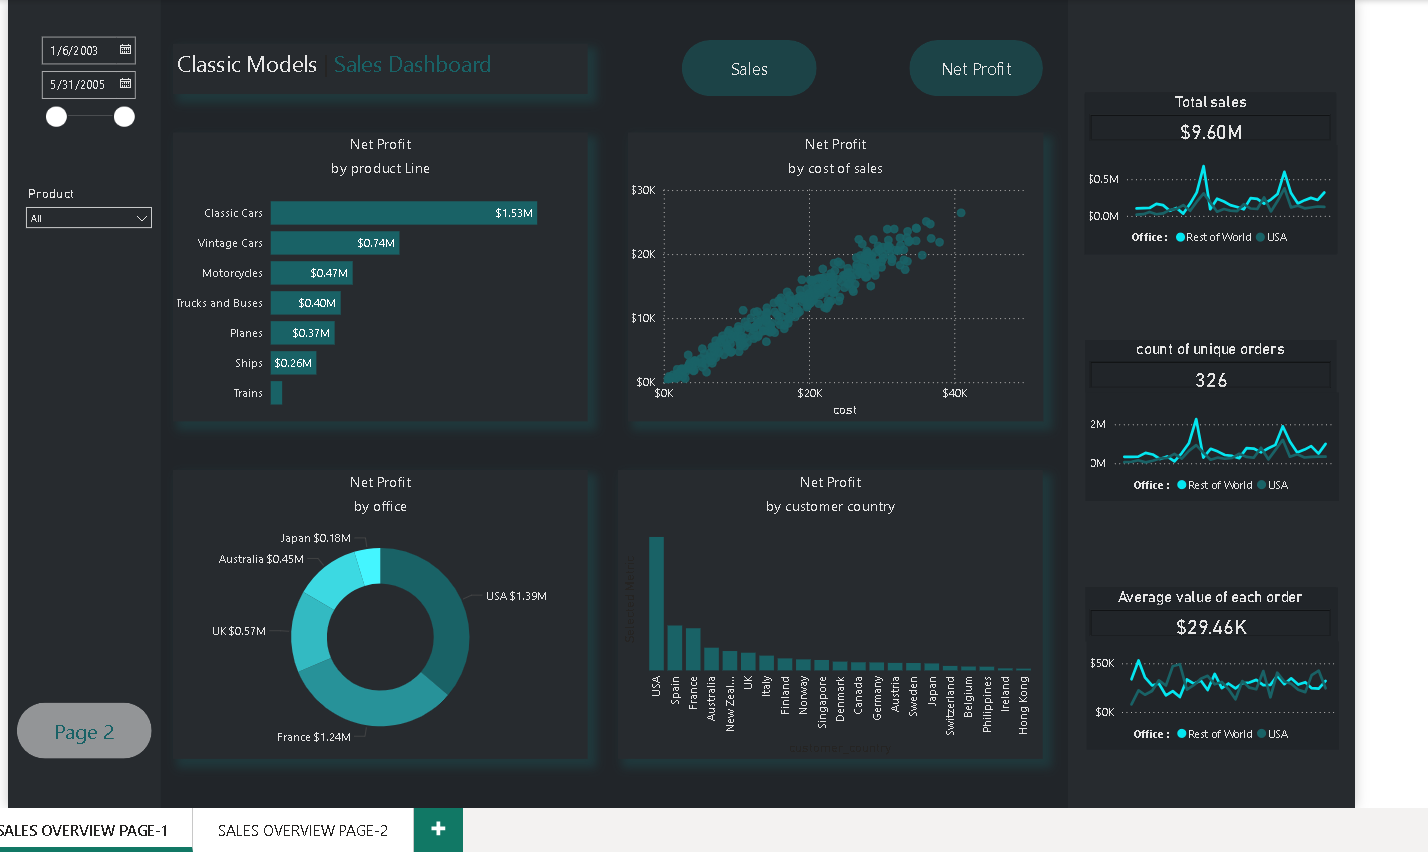

The dashboard page shown, as its layout file describes it:
{"tool":"powerbi","page":{"name":"SALES OVERVIEW PAGE-1","canvas":[1500,900],"ordinal":0},"visuals":[{"type":"shape","box":[0,0,170,900.3],"z":0},{"type":"shape","box":[1180,0,320,900.3],"z":1000},{"type":"shape","box":[1198.5,103.8,280.8,179.1],"z":2000},{"type":"shape","box":[1200.8,654,279.7,179.5],"z":3000},{"type":"shape","box":[1199.4,378.5,279.7,179.5],"z":4000},{"type":"cardVisual","title":"Total sales","fields":{"Data":["Sum(classicmodels sales_data_for_power_bi.sales_value)"]},"box":[1199.4,103,278.3,58.4],"z":5000},{"type":"cardVisual","title":"Average value of each order","fields":{"Data":["classicmodels sales_data_for_power_bi.Average Sales Value per Order"]},"box":[1199.4,654,278.3,59.8],"z":6000},{"type":"cardVisual","title":"count of unique orders","fields":{"Data":["Count(classicmodels sales_data_for_power_bi.ordernumber)"]},"box":[1199.4,378.5,278.3,58.4],"z":7000},{"type":"lineChart","fields":{"Y":["Sum(classicmodels sales_data_for_power_bi.sales_value)"],"Series":["classicmodels sales_data_for_power_bi.Office Grouped"],"Category":["classicmodels sales_data_for_power_bi.orderdate.Variation.Date Hierarchy.Year","classicmodels sales_data_for_power_bi.orderdate.Variation.Date Hierarchy.Quarter","classicmodels sales_data_for_power_bi.orderdate.Variation.Date Hierarchy.Month"]},"box":[1199.4,161.4,281.1,121.1],"z":8000},{"type":"lineChart","fields":{"Series":["classicmodels sales_data_for_power_bi.Office Grouped"],"Category":["classicmodels sales_data_for_power_bi.orderdate.Variation.Date Hierarchy.Year","classicmodels sales_data_for_power_bi.orderdate.Variation.Date Hierarchy.Quarter","classicmodels sales_data_for_power_bi.orderdate.Variation.Date Hierarchy.Month"],"Y":["classicmodels sales_data_for_power_bi.Average Sales Value per Order"]},"box":[1200.8,713.8,281.1,121.1],"z":9000},{"type":"lineChart","fields":{"Series":["classicmodels sales_data_for_power_bi.Office Grouped"],"Category":["classicmodels sales_data_for_power_bi.orderdate.Variation.Date Hierarchy.Year","classicmodels sales_data_for_power_bi.orderdate.Variation.Date Hierarchy.Quarter","classicmodels sales_data_for_power_bi.orderdate.Variation.Date Hierarchy.Month"],"Y":["Sum(classicmodels sales_data_for_power_bi.ordernumber)"]},"box":[1200.8,436.9,281.1,121.1],"z":10000},{"type":"clusteredBarChart","fields":{"Category":["classicmodels sales_data_for_power_bi.productLine"],"Y":["Table.Selected Metric"]},"box":[183.7,147.5,462,321.4],"z":11000},{"type":"actionButton","box":[750,44.5,150.3,62.6],"z":12000},{"type":"actionButton","box":[1003.3,44.5,148.9,62.6],"z":13000},{"type":"scatterChart","fields":{"X":["Sum(classicmodels sales_data_for_power_bi.cost_of_sales)"],"Y":["Table.Selected Metric"],"Category":["classicmodels sales_data_for_power_bi.ordernumber"]},"box":[690.8,148,462.4,321.4],"z":15000},{"type":"donutChart","fields":{"Y":["Table.Selected Metric"],"Category":["classicmodels sales_data_for_power_bi.office_country"]},"box":[183.7,523.2,462,321.4],"z":16000},{"type":"clusteredColumnChart","fields":{"Category":["classicmodels sales_data_for_power_bi.customer_country"],"Y":["Table.Selected Metric"]},"box":[679,523.2,473.1,321.4],"z":17000},{"type":"textbox","box":[183.7,48.7,462,55.7],"z":17001},{"type":"actionButton","box":[9.7,782,150.3,62.6],"z":17002},{"type":"slicer","fields":{"Values":["classicmodels sales_data_for_power_bi.orderdate"]},"box":[25,30.6,125.2,162.8],"z":17003},{"type":"slicer","fields":{"Values":["classicmodels sales_data_for_power_bi.productName"]},"box":[9.7,201.8,160,162.8],"z":17004}]}

Visuals, with their boxes on the page's 1500x900 design canvas (x1, y1, x2, y2). These are canvas units, not pixel positions in the 1428x852 screenshot, which may show the page scaled, cropped or inside an application window:
shape: crop(0, 0, 170, 900)
shape: crop(1180, 0, 1500, 900)
shape: crop(1198, 104, 1479, 283)
shape: crop(1201, 654, 1480, 834)
shape: crop(1199, 378, 1479, 558)
"Total sales" cardVisual: crop(1199, 103, 1478, 161)
"Average value of each order" cardVisual: crop(1199, 654, 1478, 714)
"count of unique orders" cardVisual: crop(1199, 378, 1478, 437)
lineChart - Sum(classicmodels sales_data_for_power_bi.sales_value) x classicmodels sales_data_for_power_bi.Office Grouped: crop(1199, 161, 1480, 282)
lineChart - classicmodels sales_data_for_power_bi.Office Grouped x classicmodels sales_data_for_power_bi.orderdate.Variation.Date Hierarchy.Year: crop(1201, 714, 1482, 835)
lineChart - classicmodels sales_data_for_power_bi.Office Grouped x classicmodels sales_data_for_power_bi.orderdate.Variation.Date Hierarchy.Year: crop(1201, 437, 1482, 558)
clusteredBarChart - classicmodels sales_data_for_power_bi.productLine x Table.Selected Metric: crop(184, 148, 646, 469)
actionButton: crop(750, 44, 900, 107)
actionButton: crop(1003, 44, 1152, 107)
scatterChart - Sum(classicmodels sales_data_for_power_bi.cost_of_sales) x Table.Selected Metric: crop(691, 148, 1153, 469)
donutChart - Table.Selected Metric x classicmodels sales_data_for_power_bi.office_country: crop(184, 523, 646, 845)
clusteredColumnChart - classicmodels sales_data_for_power_bi.customer_country x Table.Selected Metric: crop(679, 523, 1152, 845)
textbox: crop(184, 49, 646, 104)
actionButton: crop(10, 782, 160, 845)
slicer - classicmodels sales_data_for_power_bi.orderdate: crop(25, 31, 150, 193)
slicer - classicmodels sales_data_for_power_bi.productName: crop(10, 202, 170, 365)
